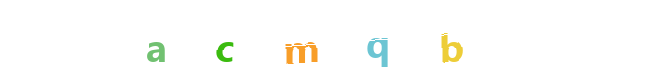A: (147, 0, 227, 80)
B: (330, 0, 410, 80)
C: (287, 0, 367, 80)
M: (300, 0, 380, 80)
Q: (318, 0, 398, 80)
